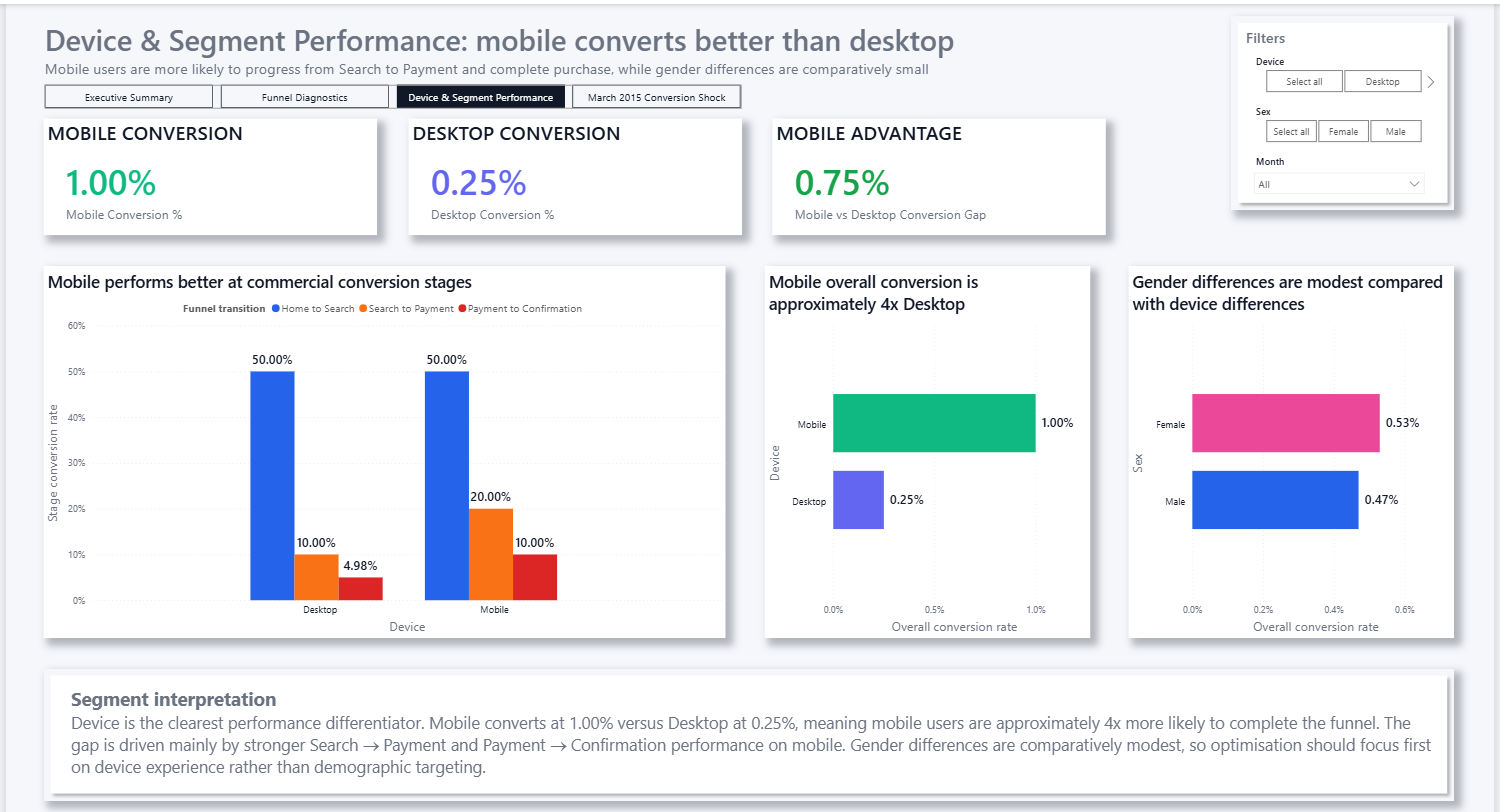

Layout of this report page (visuals, bound fields, positions):
{"tool":"powerbi","page":{"name":"Device & Segment Performance","canvas":[1920,1080],"ordinal":2},"visuals":[{"type":"textbox","box":[50,30,1200,50],"z":0},{"type":"textbox","box":[50,80,1200,32],"z":1000},{"type":"cardVisual","title":"MOBILE CONVERSION","fields":{"Data":["User Funnel.Mobile Conversion %"]},"box":[49,158.5,430,150],"z":2000},{"type":"cardVisual","title":"DESKTOP CONVERSION","fields":{"Data":["User Funnel.Desktop Conversion %"]},"box":[519,158.5,430,150],"z":3000},{"type":"cardVisual","title":"MOBILE ADVANTAGE","fields":{"Data":["User Funnel.Mobile vs Desktop Conversion Gap"]},"box":[989,158.5,430,150],"z":4000},{"type":"clusteredColumnChart","title":"Mobile performs better at commercial conversion stages","fields":{"Category":["Device Funnel.device"],"Y":["Sum(Device Funnel.home_to_search_rate)","Sum(Device Funnel.search_to_payment_rate)","Sum(Device Funnel.payment_to_confirmation_rate)"]},"box":[49,348.5,880,480],"z":5000},{"type":"clusteredBarChart","title":"Mobile overall conversion is approximately 4x Desktop","fields":{"Category":["Device Funnel.device"],"Y":["Sum(Device Funnel.overall_conversion_rate)"]},"box":[979,348.5,420,480],"z":6000},{"type":"clusteredBarChart","title":"Gender differences are modest compared with device differences","fields":{"Category":["Sex Funnel.sex"],"Y":["Sum(Sex Funnel.overall_conversion_rate)"]},"box":[1449,348.5,420,480],"z":7000},{"type":"shape","box":[49,868.5,1820,170],"z":8000},{"type":"textbox","box":[84,890,1760,135],"z":9000},{"type":"shape","box":[1580,25,288,250],"z":10000},{"type":"textbox","box":[1600,40,240,25],"z":11000},{"type":"slicer","fields":{"Values":["Dim Device.device"]},"box":[1600,75,250,55],"z":12000},{"type":"slicer","fields":{"Values":["Dim Sex.sex"]},"box":[1600,140,250,55],"z":13000},{"type":"slicer","fields":{"Values":["Dim Month.visit_month_start"]},"box":[1600,205,240,55],"z":14000},{"type":"pageNavigator","box":[50,115,900,30],"z":15000}]}

Visuals, with their boxes on the page's 1920x1080 design canvas (x1, y1, x2, y2). These are canvas units, not pixel positions in the 1500x812 screenshot, which may show the page scaled, cropped or inside an application window:
textbox: Rect(50, 30, 1250, 80)
textbox: Rect(50, 80, 1250, 112)
"MOBILE CONVERSION" cardVisual: Rect(49, 158, 479, 308)
"DESKTOP CONVERSION" cardVisual: Rect(519, 158, 949, 308)
"MOBILE ADVANTAGE" cardVisual: Rect(989, 158, 1419, 308)
"Mobile performs better at commercial conversion stages" clusteredColumnChart: Rect(49, 348, 929, 828)
"Mobile overall conversion is approximately 4x Desktop" clusteredBarChart: Rect(979, 348, 1399, 828)
"Gender differences are modest compared with device differences" clusteredBarChart: Rect(1449, 348, 1869, 828)
shape: Rect(49, 868, 1869, 1038)
textbox: Rect(84, 890, 1844, 1025)
shape: Rect(1580, 25, 1868, 275)
textbox: Rect(1600, 40, 1840, 65)
slicer - Dim Device.device: Rect(1600, 75, 1850, 130)
slicer - Dim Sex.sex: Rect(1600, 140, 1850, 195)
slicer - Dim Month.visit_month_start: Rect(1600, 205, 1840, 260)
pageNavigator: Rect(50, 115, 950, 145)
